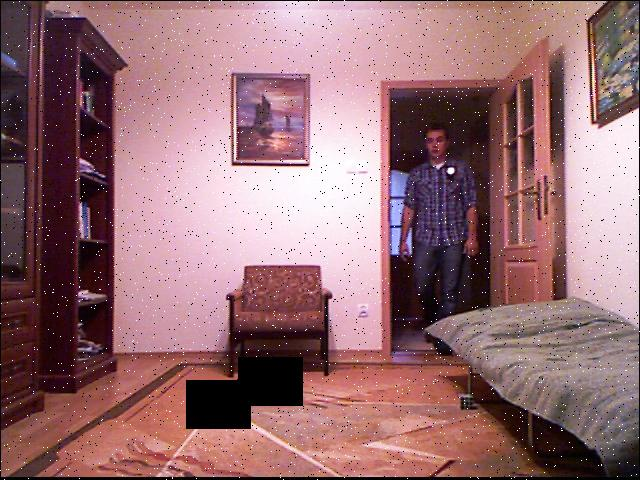standing: (401, 120, 479, 329)
